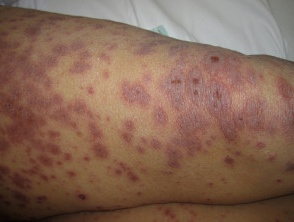SJS-TEN: (0, 7, 294, 212)
